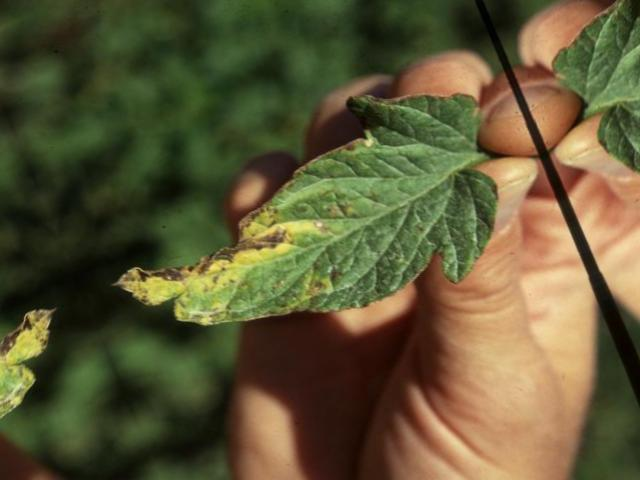Tomato leaf bacterial spot: (76, 47, 555, 415)
